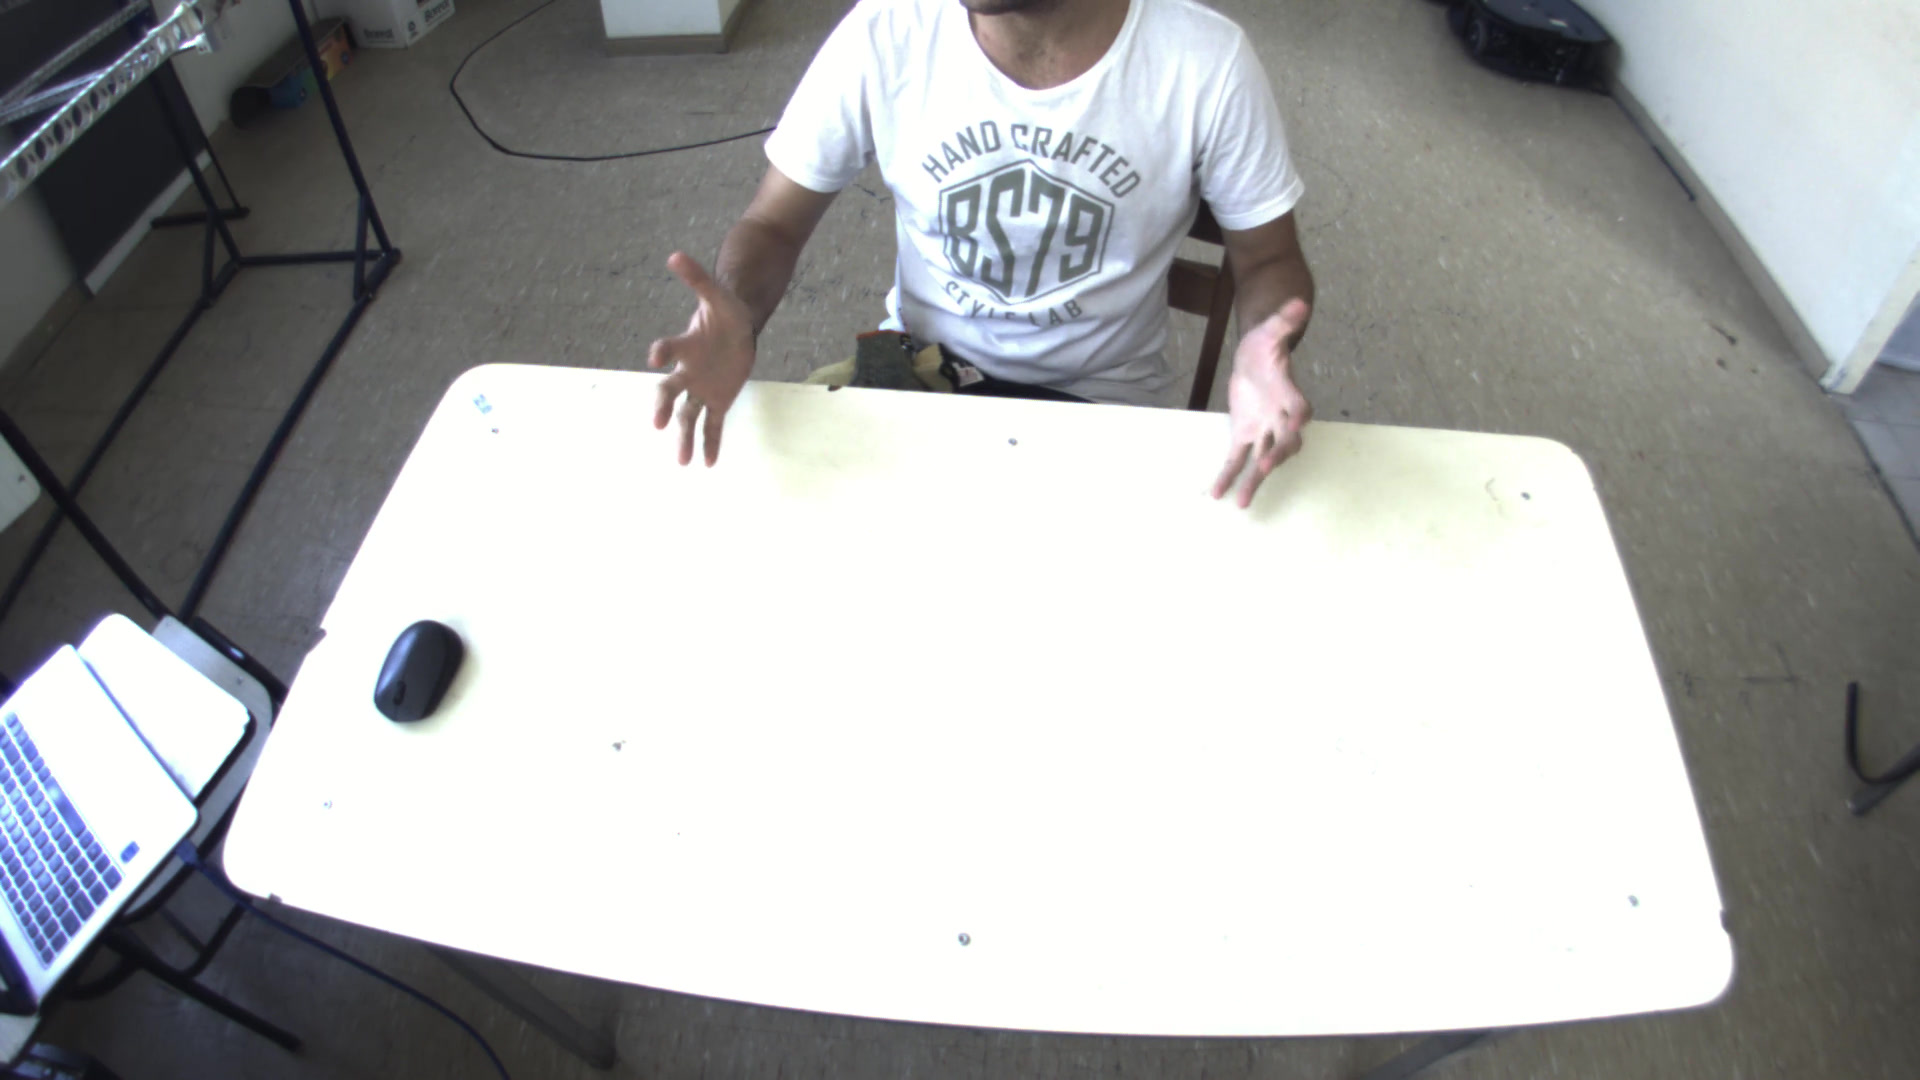hand: (633, 233, 766, 469), (1205, 295, 1329, 517)
